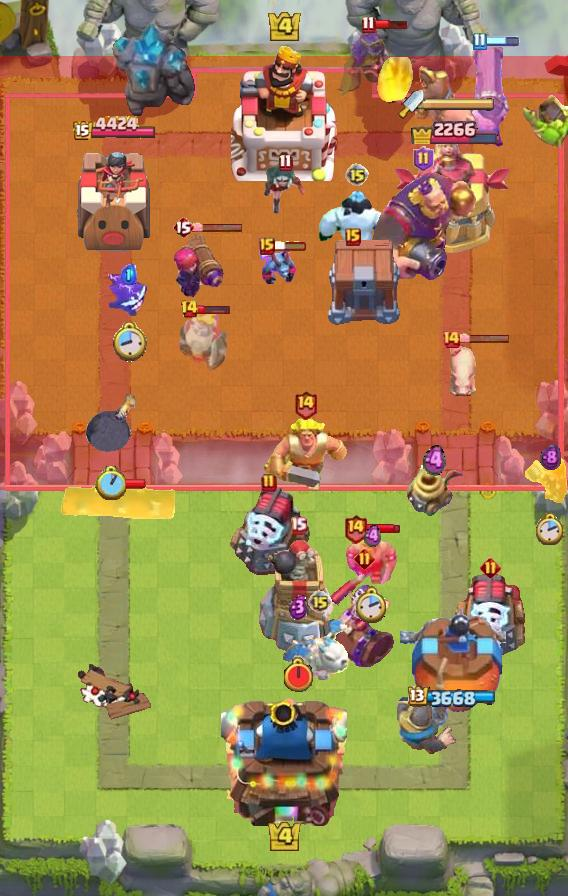archer: (344, 534, 400, 584)
baby-dragon: (84, 392, 136, 454)
bar: (394, 142, 512, 256)
barbarian-hut: (337, 24, 421, 102)
battle-healer: (466, 44, 512, 148)
bomb: (325, 240, 403, 326)
cannoneer-tower: (111, 24, 199, 122)
electro-spirit: (423, 444, 446, 478), (540, 445, 561, 472), (288, 594, 308, 620), (364, 523, 381, 548), (121, 264, 137, 285)
elixir: (112, 321, 147, 362), (281, 657, 315, 694), (356, 586, 388, 625), (95, 466, 125, 500), (536, 513, 564, 547)
emote: (192, 222, 244, 233), (459, 332, 511, 343), (484, 36, 520, 48), (272, 240, 308, 252), (111, 478, 147, 490), (365, 523, 401, 535), (197, 303, 232, 315), (373, 19, 409, 30)
firecracker: (396, 698, 456, 755)
freeze: (376, 62, 480, 136)
giant: (446, 338, 480, 400)
goblin-drill: (403, 463, 465, 519)
goblin-hut: (261, 418, 349, 494)
golem: (227, 485, 311, 575), (450, 569, 530, 661)
hog-rider: (524, 456, 568, 506)
king-tower: (221, 690, 347, 826), (231, 43, 337, 181)
king-tower-bar: (424, 97, 496, 111)
lightning: (368, 169, 480, 281)
mega-minion: (172, 230, 228, 302)
mini-pekka: (280, 618, 360, 680)
minion: (57, 481, 179, 525)
mortar-evolution: (177, 306, 229, 374)
queen-tower: (400, 603, 506, 731), (71, 144, 157, 255)
rage: (314, 191, 400, 259)
royal-delivery: (255, 244, 297, 284)
selected: (409, 114, 500, 144), (71, 115, 156, 143), (408, 686, 498, 710)
skeleton-king-bar: (329, 571, 399, 671)
spear-goblin: (108, 274, 150, 320)
tesla: (261, 161, 309, 217)
text: (293, 389, 318, 420), (344, 513, 369, 544), (345, 163, 369, 187), (308, 590, 332, 614), (414, 146, 435, 172), (172, 215, 194, 239), (353, 547, 375, 569), (479, 558, 501, 579), (180, 299, 200, 319), (441, 329, 461, 349), (289, 517, 307, 536), (261, 473, 277, 493), (345, 228, 361, 246), (259, 237, 275, 255), (360, 15, 375, 34), (472, 33, 487, 51), (279, 153, 293, 172)
valkyrie: (376, 57, 416, 105)
x-bow: (522, 93, 568, 149)
zappy: (253, 540, 343, 656)
